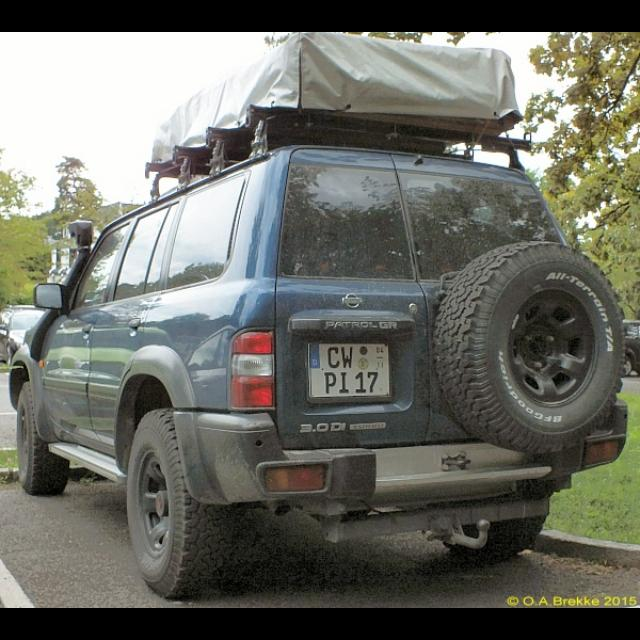d_license_plate: (306, 341, 390, 397)
